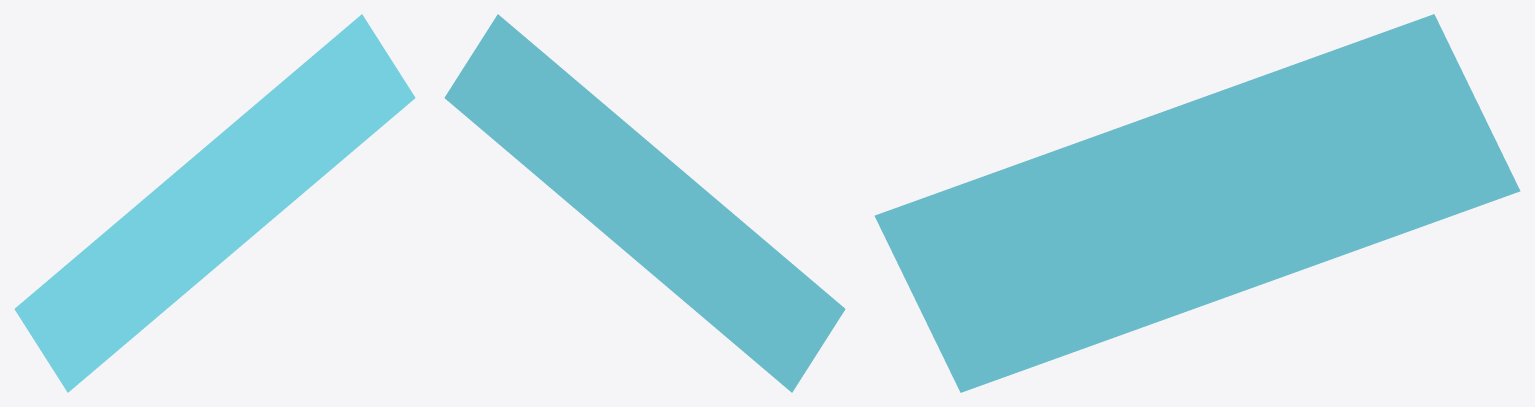
The model's file is z_up_animated_rotation.gltf.
3 views of the same model, side by side, from view 1: azimuth 30°, elevation 25°; view 2: azimuth 150°, elevation 25°; view 3: azimuth 330°, elevation 25° (orthographic). The views are drawn at different scales.
Parts seen in each view (by area): view 1: AnimatedZUp; view 2: AnimatedZUp; view 3: AnimatedZUp.
Part boxes in pixels (left/top/right/bottom): AnimatedZUp: left=14, top=14, right=415, bottom=392; AnimatedZUp: left=444, top=14, right=845, bottom=392; AnimatedZUp: left=874, top=14, right=1520, bottom=392.
Size of the model in its own units: 1.2 by 0.8771 by 0.
